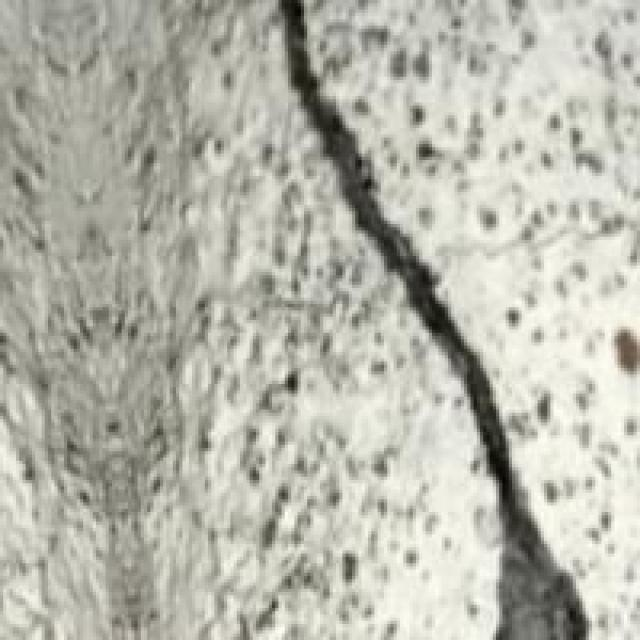crack: (254, 0, 622, 640)
